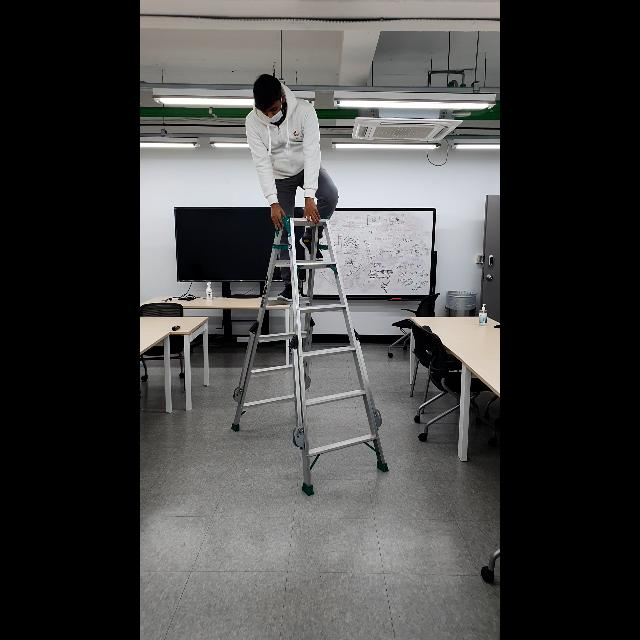hard hat: (230, 214, 394, 498)
vest: (241, 74, 341, 304)
